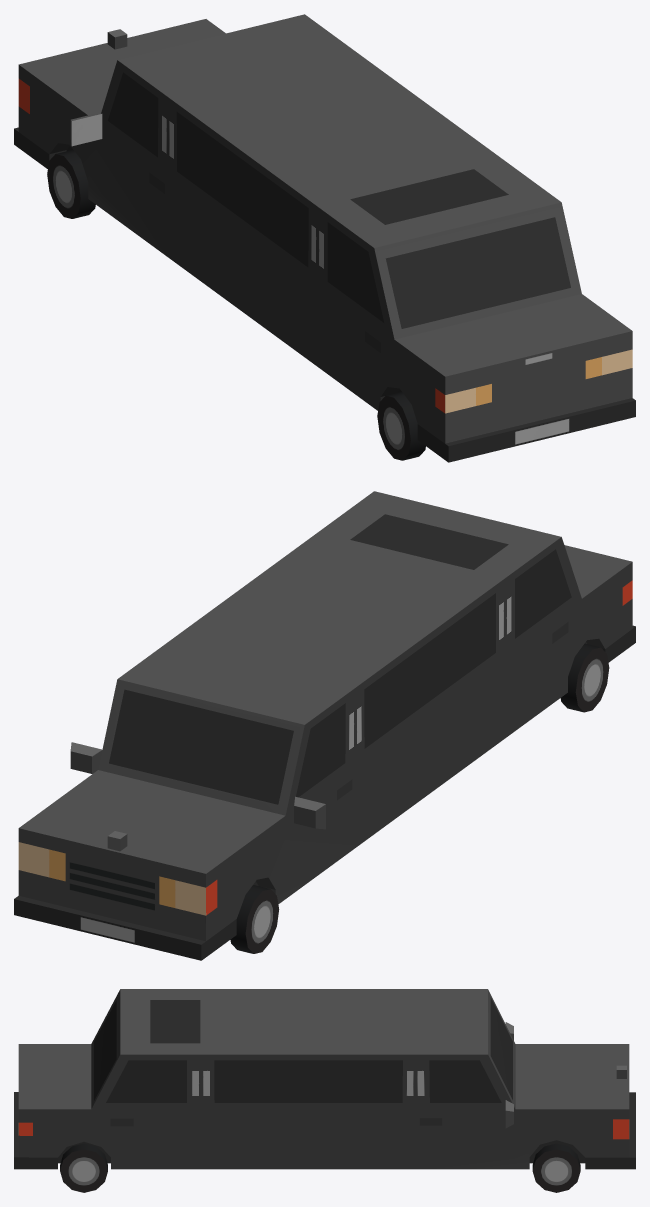
The model's file is limoBlack.glb.
3 renders of one model, top to bottom at view 1: azimuth 30°, elevation 25°; view 2: azimuth 150°, elevation 25°; view 3: azimuth 270°, elevation 25°, orthographic. The views are drawn at different scales.
Visible parts, largest first — view 1: limo_black_seperate_prefab, limo_fl_wheel, limo_rl_wheel; view 2: limo_black_seperate_prefab, limo_fl_wheel, limo_rl_wheel; view 3: limo_black_seperate_prefab, limo_fr_wheel, limo_rr_wheel.
Boxes of the visible parts, x1=… form: limo_black_seperate_prefab: x1=14, y1=14, x2=635, y2=462; limo_fl_wheel: x1=47, y1=150, x2=95, y2=218; limo_rl_wheel: x1=377, y1=392, x2=425, y2=460; limo_black_seperate_prefab: x1=14, y1=491, x2=635, y2=960; limo_fl_wheel: x1=230, y1=885, x2=279, y2=953; limo_rl_wheel: x1=560, y1=643, x2=609, y2=712; limo_black_seperate_prefab: x1=14, y1=989, x2=635, y2=1169; limo_fr_wheel: x1=532, y1=1143, x2=580, y2=1192; limo_rr_wheel: x1=60, y1=1143, x2=107, y2=1192.
Size of the model in its own units: 3.33 by 2.39 by 9.85.
1 material, 1 textured.
